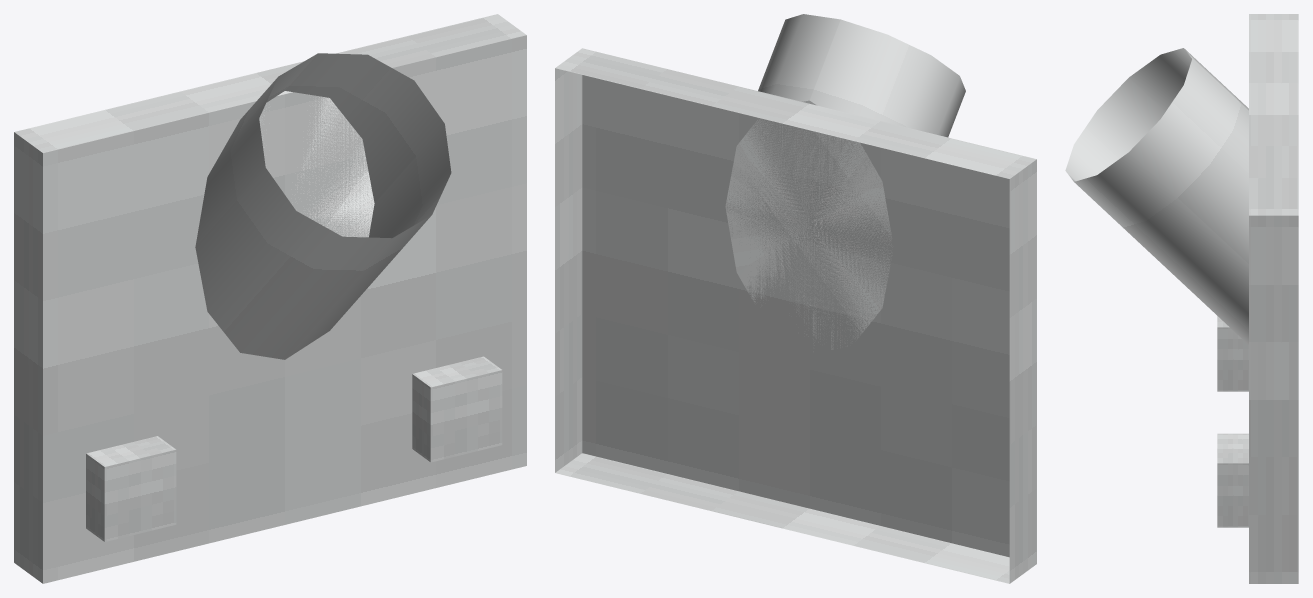
The model's file is luminairearm_truss8ftstraightdouble_c8_wall.obj.
3 views of the same model, side by side, from view 1: azimuth 30°, elevation 25°; view 2: azimuth 150°, elevation 25°; view 3: azimuth 270°, elevation 25° (orthographic). The views are drawn at different scales.
Visible parts, largest first — view 1: luminairearm_truss8ftstraightdouble_c8_wall; view 2: luminairearm_truss8ftstraightdouble_c8_wall; view 3: luminairearm_truss8ftstraightdouble_c8_wall.
Boxes of the visible parts, x1=… form: luminairearm_truss8ftstraightdouble_c8_wall: x1=14, y1=14, x2=526, y2=583; luminairearm_truss8ftstraightdouble_c8_wall: x1=555, y1=14, x2=1036, y2=583; luminairearm_truss8ftstraightdouble_c8_wall: x1=1065, y1=14, x2=1298, y2=583.
Bounding box in the file's own units: 0.4219 × 0.4134 × 0.206.
